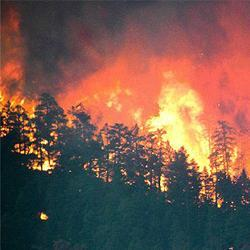fire: (160, 82, 203, 156)
